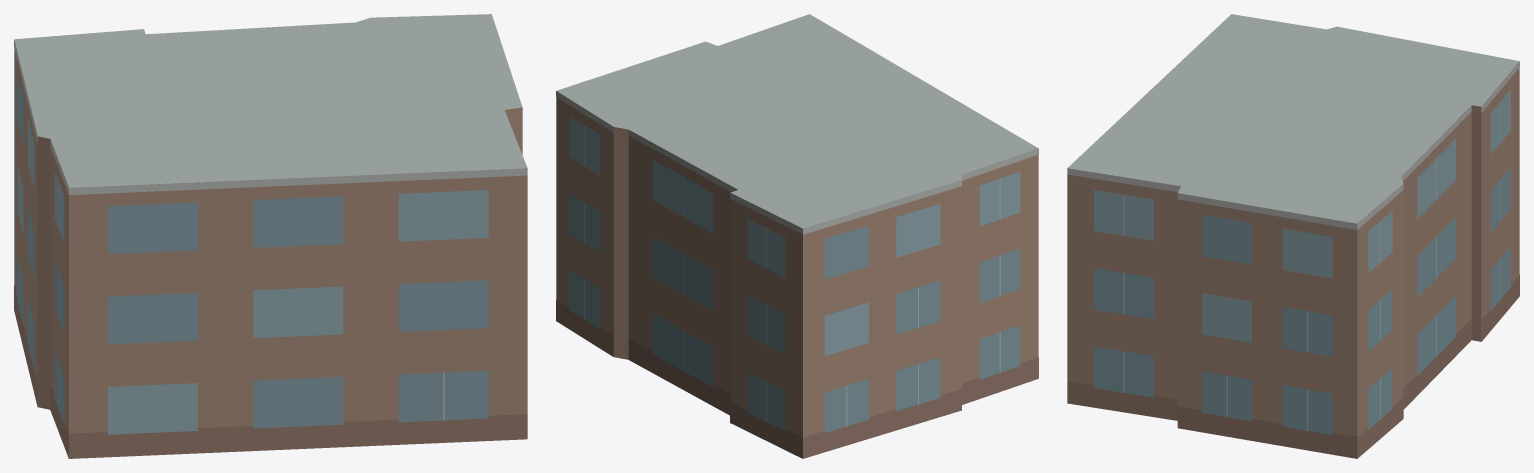
The model's file is survey-upis-32538558.glb.
3 renders of one model, left to right at view 1: azimuth 30°, elevation 25°; view 2: azimuth 150°, elevation 25°; view 3: azimuth 270°, elevation 25°, orthographic. The views are drawn at different scales.
Parts seen in each view (by area): view 1: survey-upis-32538558.tmp; view 2: survey-upis-32538558.tmp; view 3: survey-upis-32538558.tmp.
Part boxes in pixels (x1,y1,x2,y2): survey-upis-32538558.tmp: (14, 14, 527, 458); survey-upis-32538558.tmp: (556, 14, 1038, 458); survey-upis-32538558.tmp: (1067, 14, 1519, 458).
Size of the model in its own units: 17.51 by 9.15 by 15.97.
